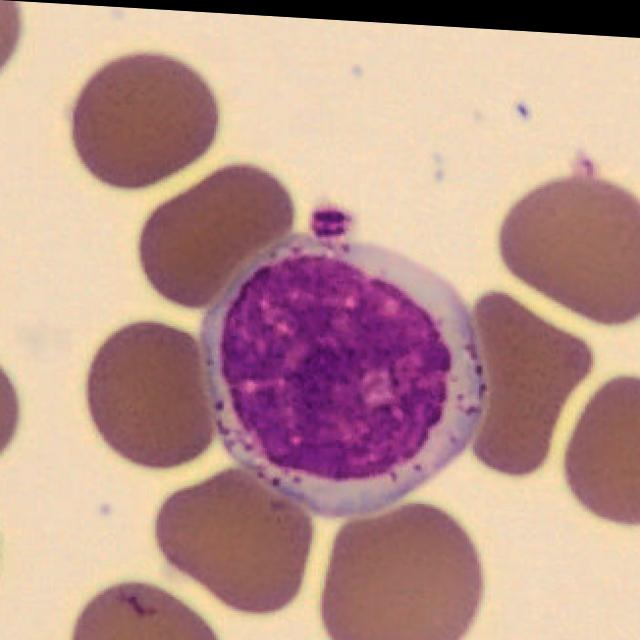Linfocito atipico: (200, 205, 487, 519)
